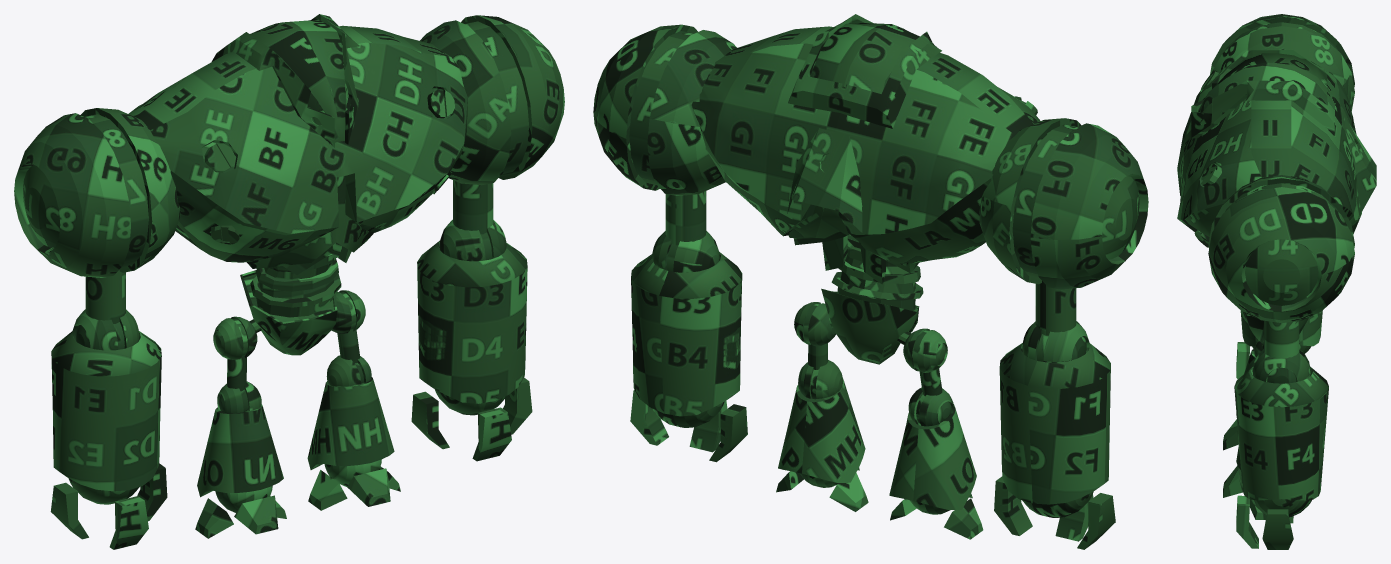
Rendered from UVRobot1.fbx.
3 views of the same model, side by side, from view 1: azimuth 30°, elevation 25°; view 2: azimuth 150°, elevation 25°; view 3: azimuth 270°, elevation 25° (orthographic). The views are drawn at different scales.
Parts seen in each view (by area): view 1: TopTorso, L_Shoulder1, L_Shoulder, L_Forearm, L_Forearm1, L_Shin1, L_Shin, InnerHead, OutSideHead, Stomach, Pelvis, MiddleTorso (+23 smaller); view 2: TopTorso, L_Shoulder1, L_Shoulder, L_Forearm1, L_Forearm, L_Shin1, L_Shin, OutSideHead, InnerHead, OuterJetPack, Pelvis, Stomach (+20 smaller); view 3: L_Shoulder, TopTorso, L_Forearm, L_Shoulder1, OutSideHead, InnerHead, L_Elbow, OuterJetPack, L_Bicep, L_Claw1, L_Forearm1, L_Claw2 (+6 smaller).
Boxes of the visible parts, x1,y1,x2,y2 form: TopTorso: [128, 25, 467, 262]; L_Shoulder1: [14, 108, 180, 277]; L_Shoulder: [420, 15, 564, 185]; L_Forearm: [417, 240, 527, 403]; L_Forearm1: [51, 331, 161, 491]; L_Shin1: [197, 404, 283, 497]; L_Shin: [307, 377, 394, 469]; InnerHead: [250, 19, 347, 143]; OutSideHead: [211, 14, 359, 147]; Stomach: [250, 254, 341, 317]; Pelvis: [240, 270, 337, 355]; MiddleTorso: [246, 176, 373, 268]; TopTorso: [691, 26, 1040, 263]; L_Shoulder1: [979, 118, 1148, 289]; L_Shoulder: [593, 24, 736, 195]; L_Forearm1: [999, 343, 1110, 504]; L_Forearm: [631, 252, 742, 416]; L_Shin1: [889, 404, 976, 509]; L_Shin: [778, 378, 865, 482]; OutSideHead: [788, 14, 941, 128]; InnerHead: [810, 22, 919, 93]; OuterJetPack: [787, 128, 862, 232]; Pelvis: [821, 288, 919, 364]; Stomach: [831, 234, 923, 310]; L_Shoulder: [1208, 175, 1354, 323]; TopTorso: [1177, 50, 1361, 236]; L_Forearm: [1234, 366, 1328, 500]; L_Shoulder1: [1210, 14, 1354, 110]; OutSideHead: [1191, 50, 1334, 138]; InnerHead: [1198, 53, 1328, 137]; L_Elbow: [1253, 349, 1310, 383]; OuterJetPack: [1345, 118, 1376, 212]; L_Bicep: [1264, 320, 1299, 358]; L_Claw1: [1262, 509, 1293, 549]; L_Forearm1: [1240, 310, 1322, 346]; L_Claw2: [1236, 495, 1258, 548].
Size of the model in its own units: 4.95 by 4.42 by 1.92.
Materials: 1 (1 with a texture image).
